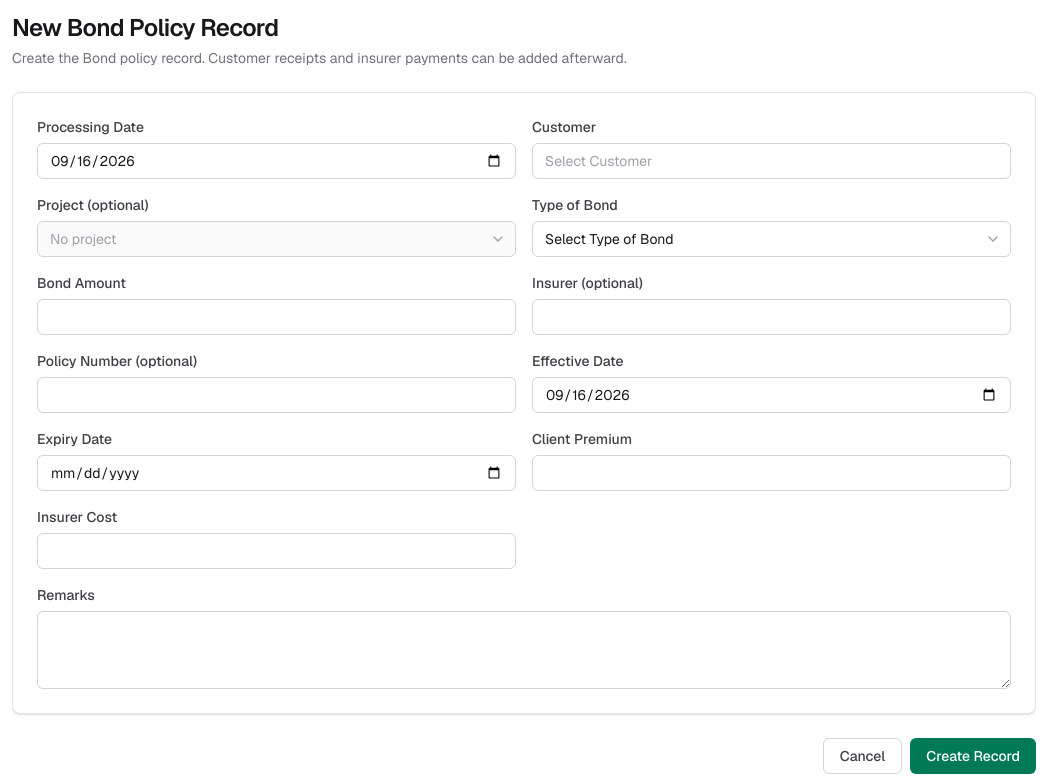
Test: Create Bond form — conditional Expiry Date requirement › selecting Security Bond makes expiry optional (label + no required attribute)
Select "Security Bond" in the dropdown below "Type of Bond" at (772, 239), box [532,221,1011,257]
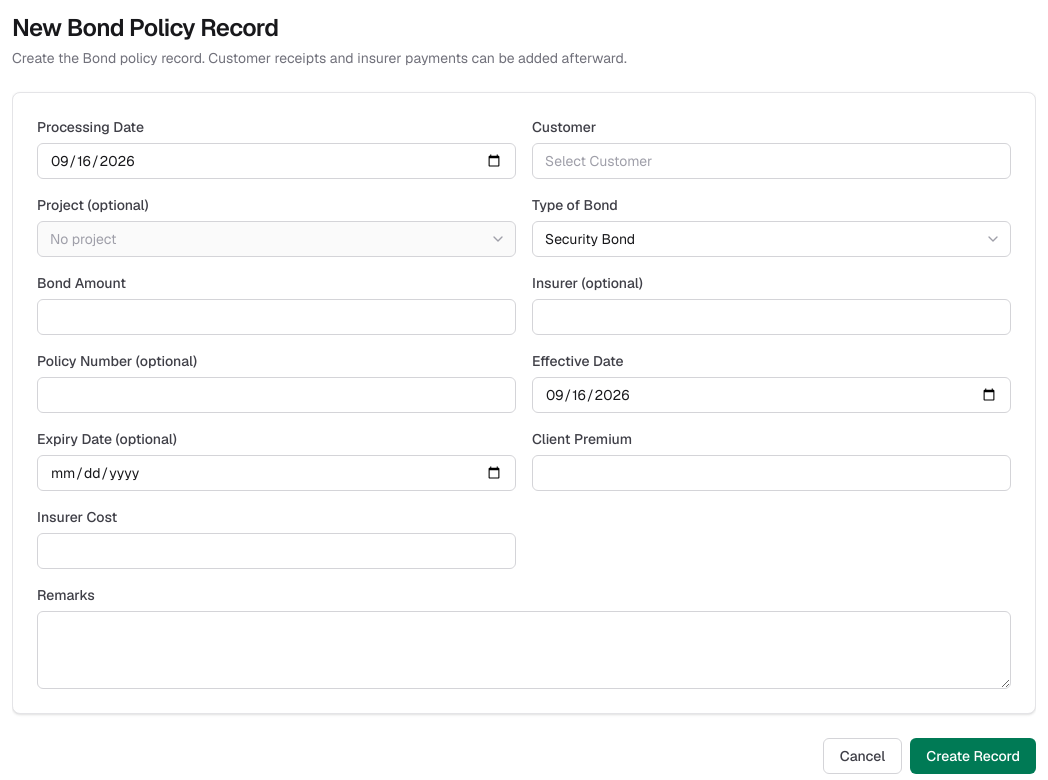
Result: the text "Expiry Date (optional)" is shown at [37,430,177,448]
